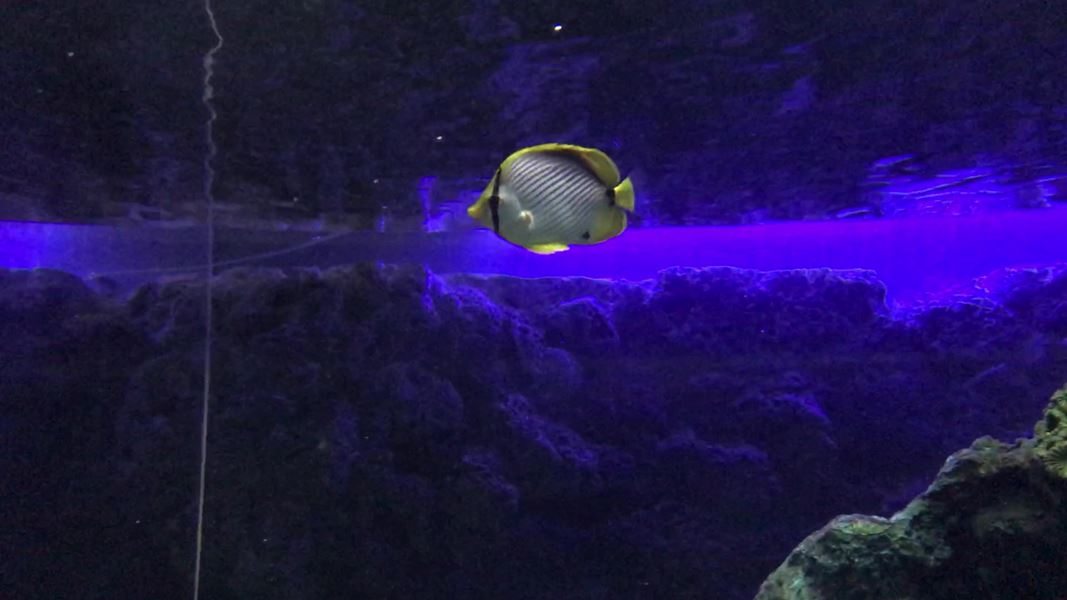Black-backed butterflyfish: (457, 133, 662, 262)
